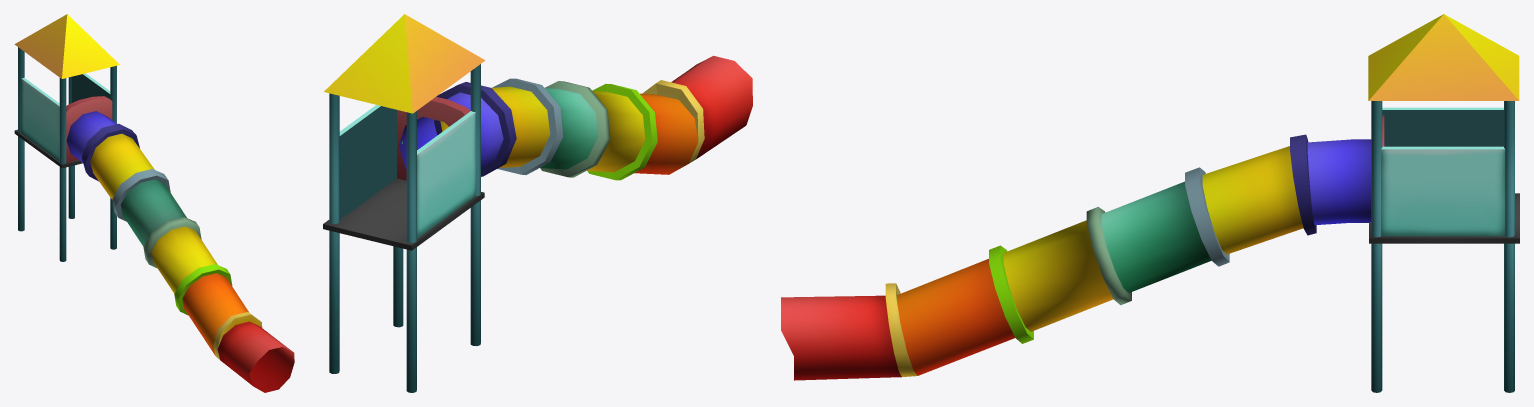
Rendered from playground_slidepp1.FBX.
3 renders of one model, left to right at view 1: azimuth 30°, elevation 25°; view 2: azimuth 150°, elevation 25°; view 3: azimuth 270°, elevation 25°, orthographic. The views are drawn at different scales.
Parts seen in each view (by area): view 1: Cylinder009, Box006, Box002, Cylinder001, Cylinder006, Box005, Cylinder007, Cylinder008, Box001; view 2: Cylinder009, Box002, Box006, Box001, Cylinder006, Cylinder008, Cylinder001, Box005, Cylinder007; view 3: Cylinder009, Box002, Box006, Cylinder007, Cylinder008, Box001.
Boxes of the visible parts, x1=… form: Cylinder009: x1=66, y1=111, x2=294, y2=392; Box006: x1=14, y1=14, x2=119, y2=78; Box002: x1=21, y1=73, x2=110, y2=160; Cylinder001: x1=59, y1=78, x2=66, y2=261; Cylinder006: x1=18, y1=47, x2=24, y2=231; Box005: x1=66, y1=96, x2=112, y2=162; Cylinder007: x1=110, y1=65, x2=116, y2=249; Cylinder008: x1=68, y1=77, x2=74, y2=218; Box001: x1=14, y1=129, x2=82, y2=168; Cylinder009: x1=398, y1=55, x2=752, y2=180; Box002: x1=339, y1=105, x2=475, y2=238; Box006: x1=324, y1=14, x2=485, y2=113; Box001: x1=323, y1=178, x2=484, y2=250; Cylinder006: x1=406, y1=111, x2=416, y2=392; Cylinder008: x1=329, y1=93, x2=339, y2=373; Cylinder001: x1=470, y1=64, x2=480, y2=345; Box005: x1=397, y1=97, x2=470, y2=180; Cylinder007: x1=393, y1=141, x2=403, y2=327; Cylinder009: x1=781, y1=134, x2=1384, y2=380; Box002: x1=1381, y1=107, x2=1505, y2=236; Box006: x1=1368, y1=14, x2=1519, y2=100; Cylinder007: x1=1371, y1=101, x2=1382, y2=392; Cylinder008: x1=1504, y1=101, x2=1514, y2=392; Box001: x1=1369, y1=193, x2=1519, y2=243.
Bounding box in the file's own units: 49.86 × 185 × 343.
